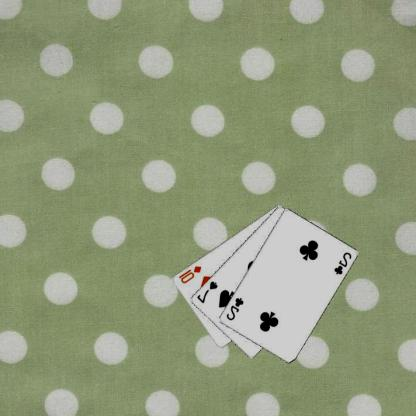10D: (178, 263, 204, 284)
2C: (225, 295, 247, 322), (333, 249, 354, 276)
7S: (196, 279, 220, 304)
